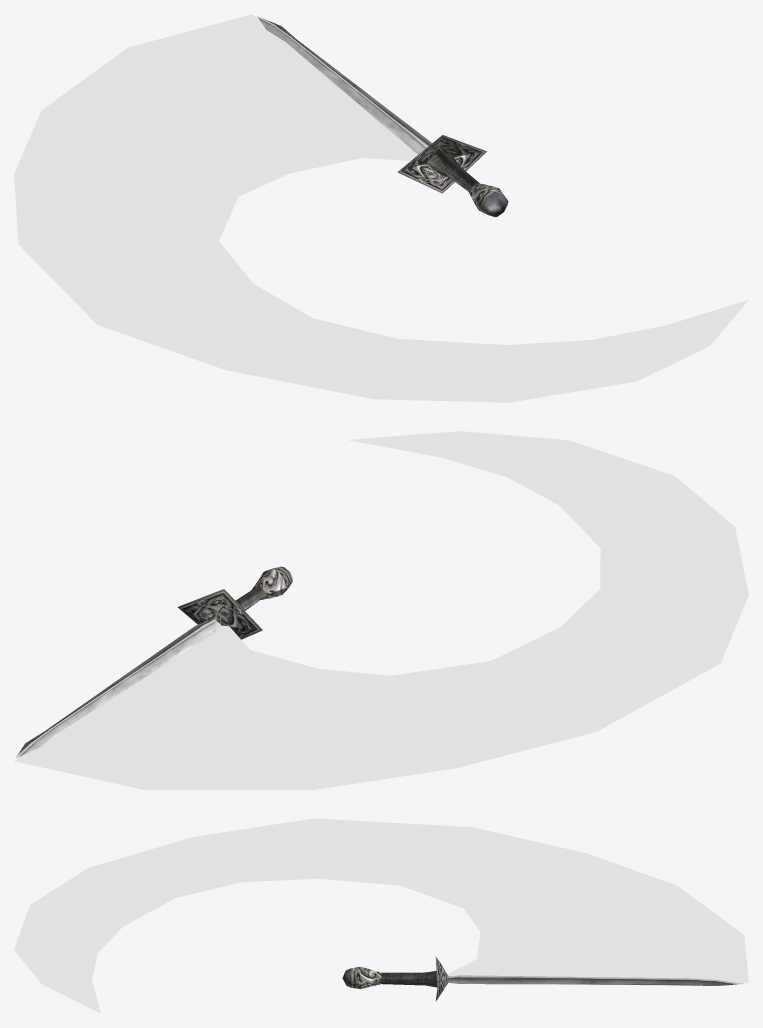
File: cutlass_pirateblade_high.fbx
3 renders of one model, top to bottom at view 1: azimuth 30°, elevation 25°; view 2: azimuth 150°, elevation 25°; view 3: azimuth 270°, elevation 25°, orthographic. The views are drawn at different scales.
Visible parts, largest first — view 1: motion_blur, handle, blade; view 2: motion_blur, handle, blade; view 3: motion_blur, blade, handle.
Part boxes in pixels (left/top/right/bottom): motion_blur: left=14, top=14, right=748, bottom=402; handle: left=397, top=135, right=508, bottom=217; blade: left=257, top=16, right=431, bottom=154; motion_blur: left=14, top=431, right=748, bottom=789; handle: left=177, top=566, right=292, bottom=639; blade: left=15, top=619, right=221, bottom=758; motion_blur: left=14, top=818, right=748, bottom=1013; blade: left=448, top=975, right=743, bottom=985; handle: left=342, top=956, right=448, bottom=1001.
Size of the model in its own units: 396 by 43.41 by 631.
Materials: 2 (2 with a texture image).
